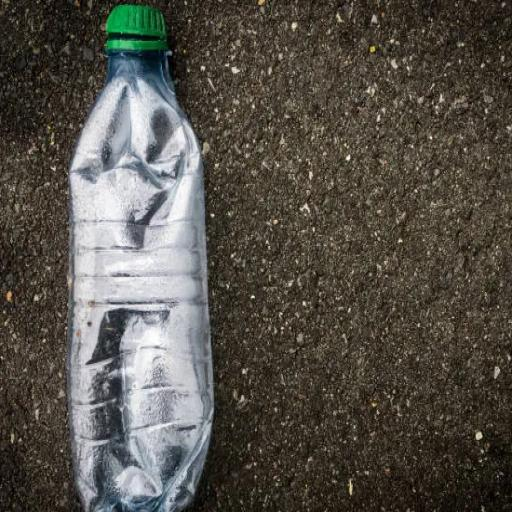bottles: (68, 7, 213, 511)
